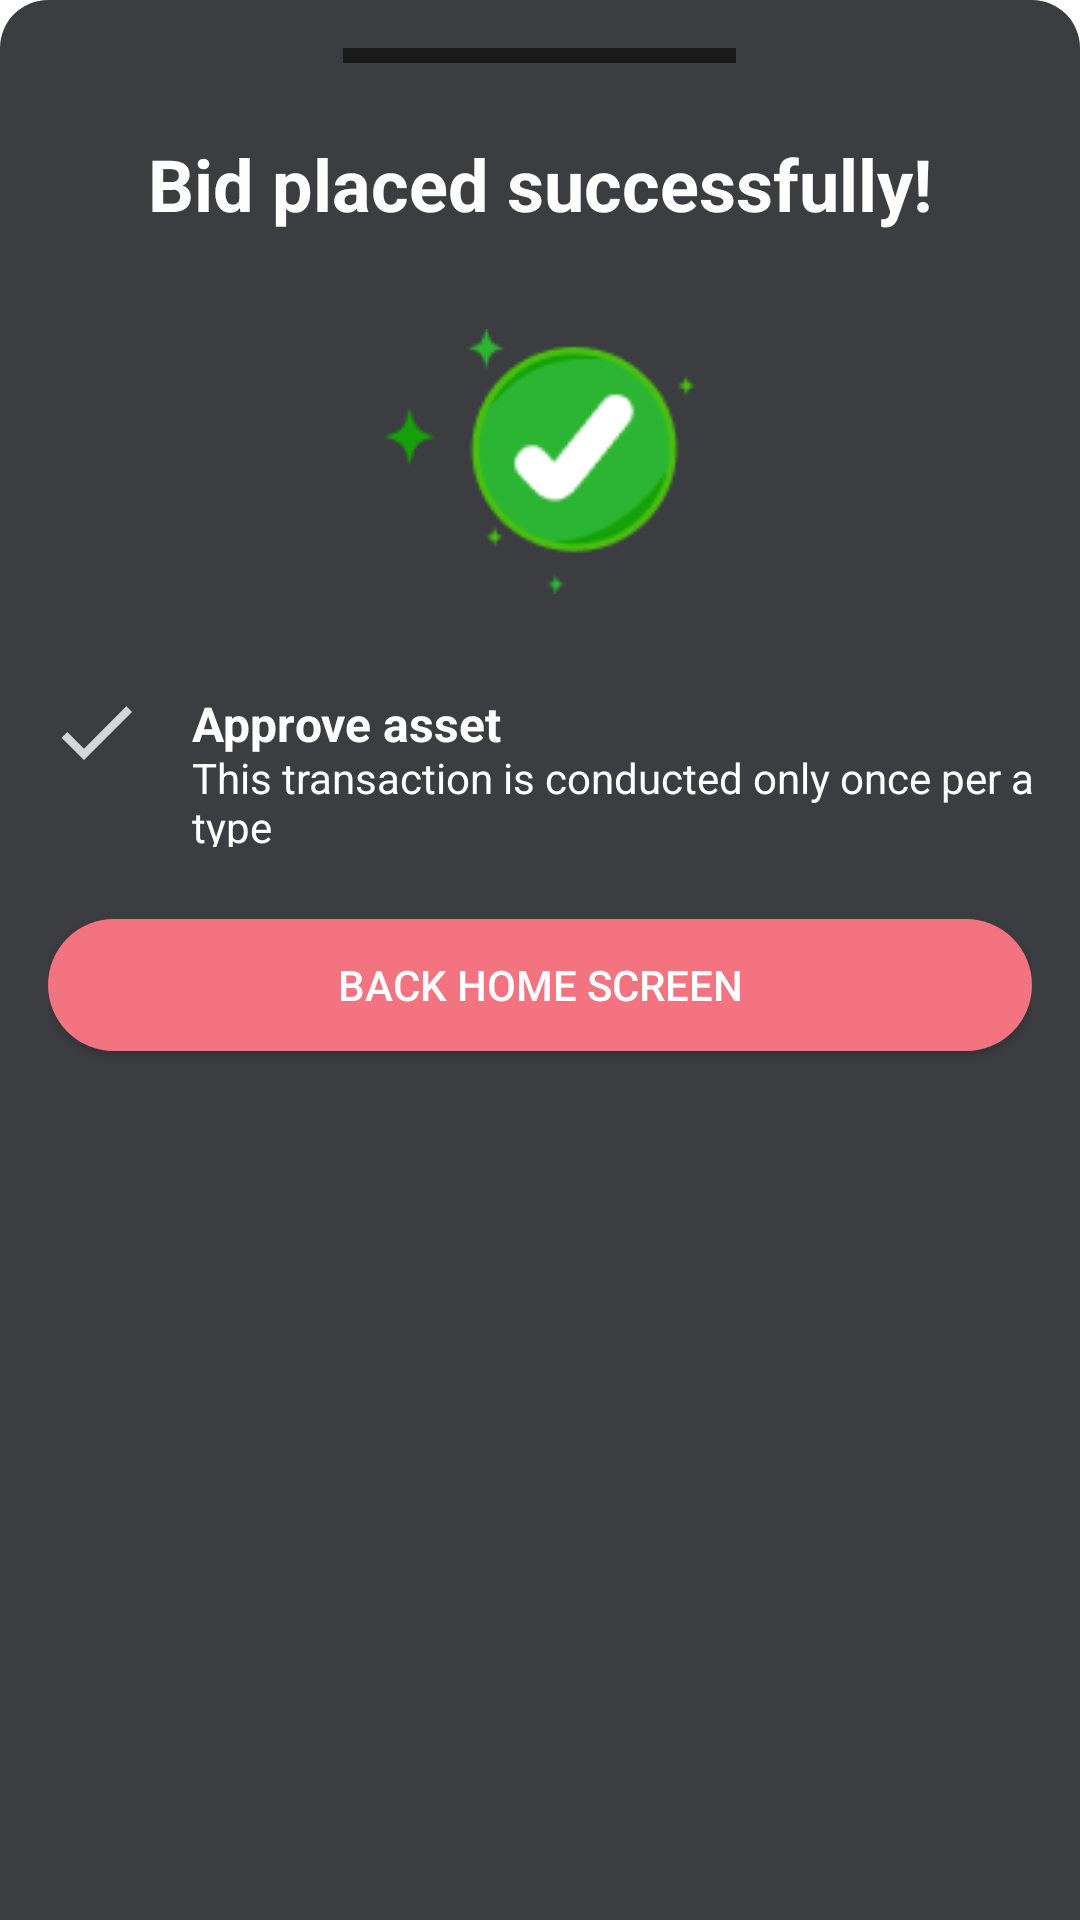

Named icons in this screenshot (1080*1920) and their bounding boxes, (x1, y1, x2, y2):
check: (62, 706, 132, 760)
check main: (386, 329, 694, 594)
